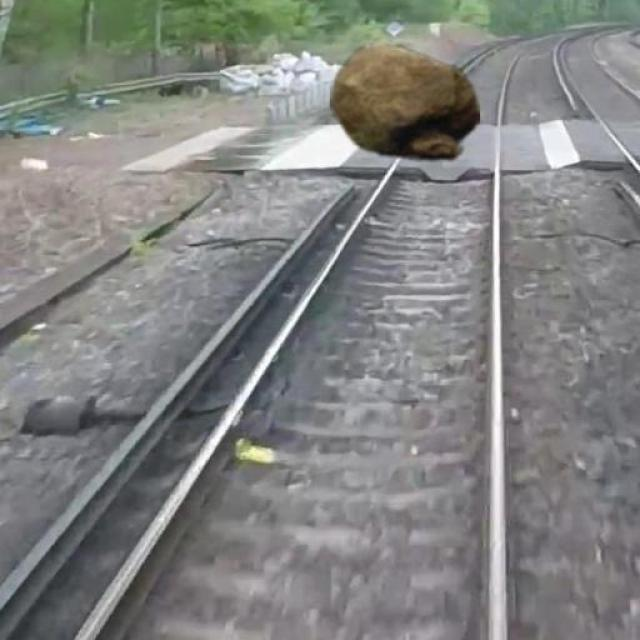Stone: (327, 41, 486, 161)
